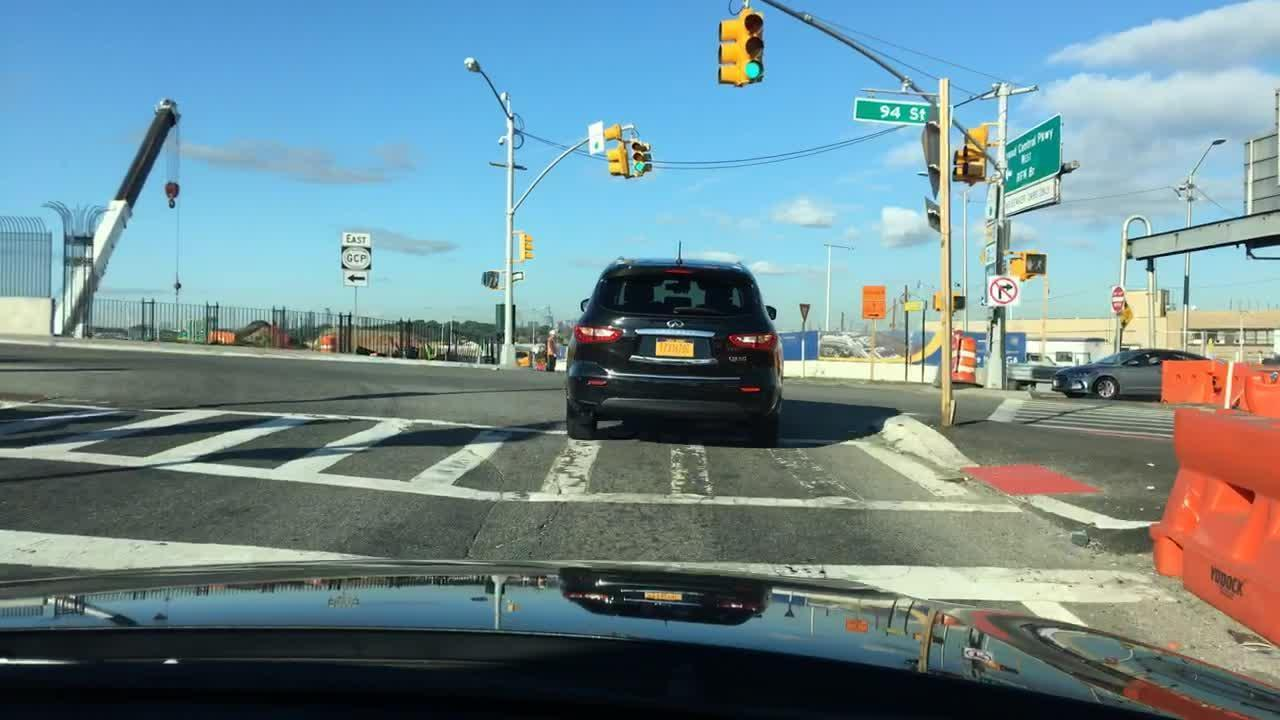Infiniti: (665, 317, 687, 331)
